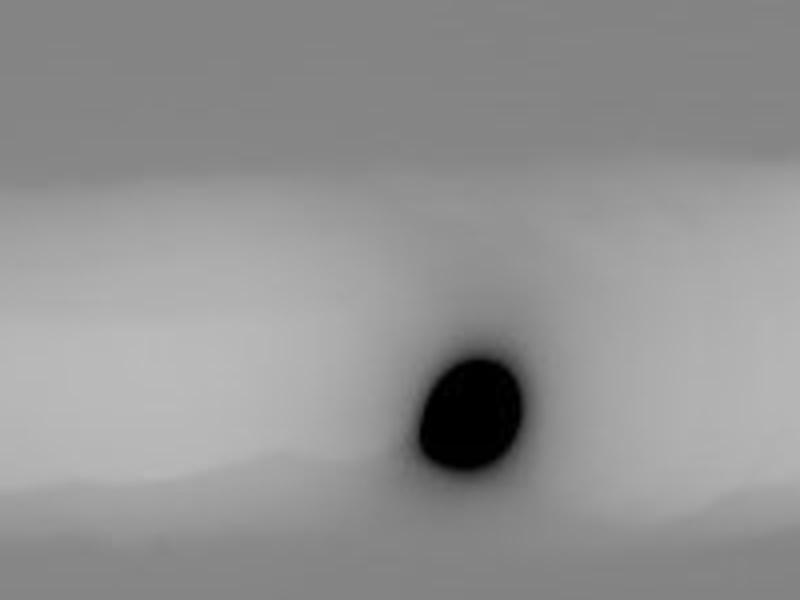defect: (414, 357, 525, 477)
